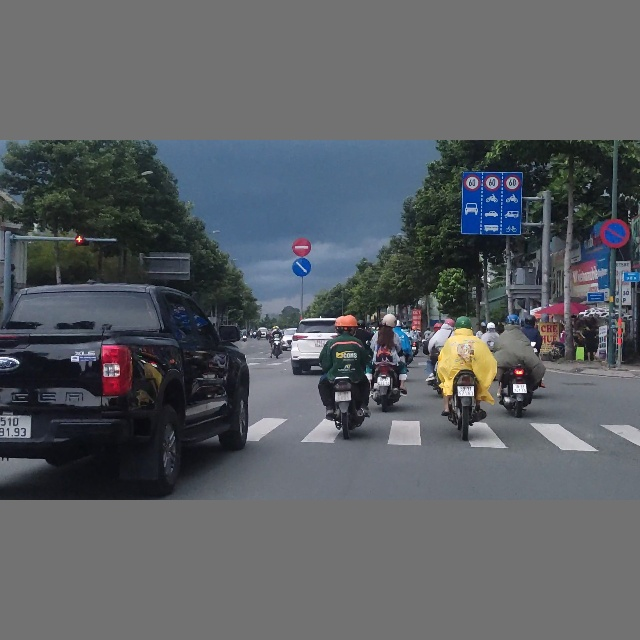P.102: (292, 237, 312, 257)
P.131a: (600, 218, 630, 248)
R.302a: (292, 257, 312, 277)
R.415a: (462, 171, 523, 235)
